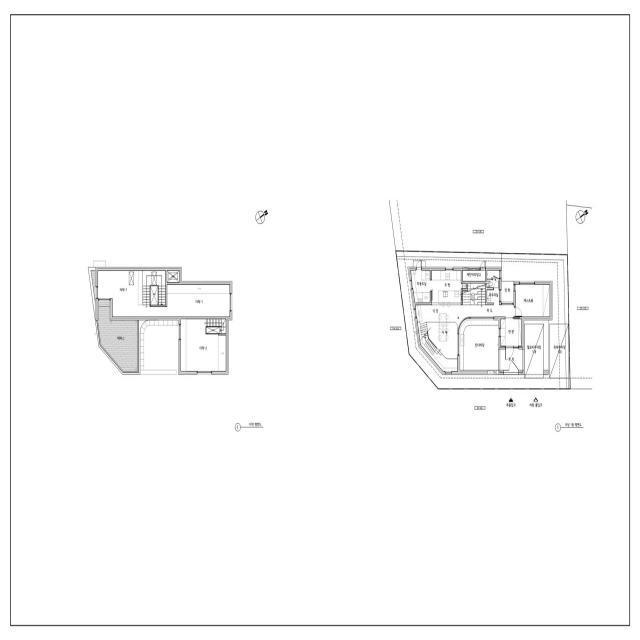space_balconi: (98, 301, 138, 371), (91, 271, 95, 302)
space_bedroom: (516, 284, 550, 317)
space_dressroom: (418, 323, 458, 371), (487, 290, 499, 303)
space_front: (501, 319, 522, 346)
space_kitchen: (432, 271, 466, 305)
space_living_room: (415, 305, 514, 330)
space_multipurpose_space: (410, 270, 430, 303)
space_other: (98, 271, 230, 317), (181, 319, 226, 371), (460, 320, 498, 370), (427, 322, 458, 359), (500, 349, 522, 370), (463, 270, 485, 281), (150, 286, 158, 305), (167, 271, 179, 282), (206, 327, 220, 334)
space_staircase: (143, 271, 166, 305), (463, 283, 485, 305), (206, 319, 226, 334)
space_toilet: (487, 271, 499, 288)
